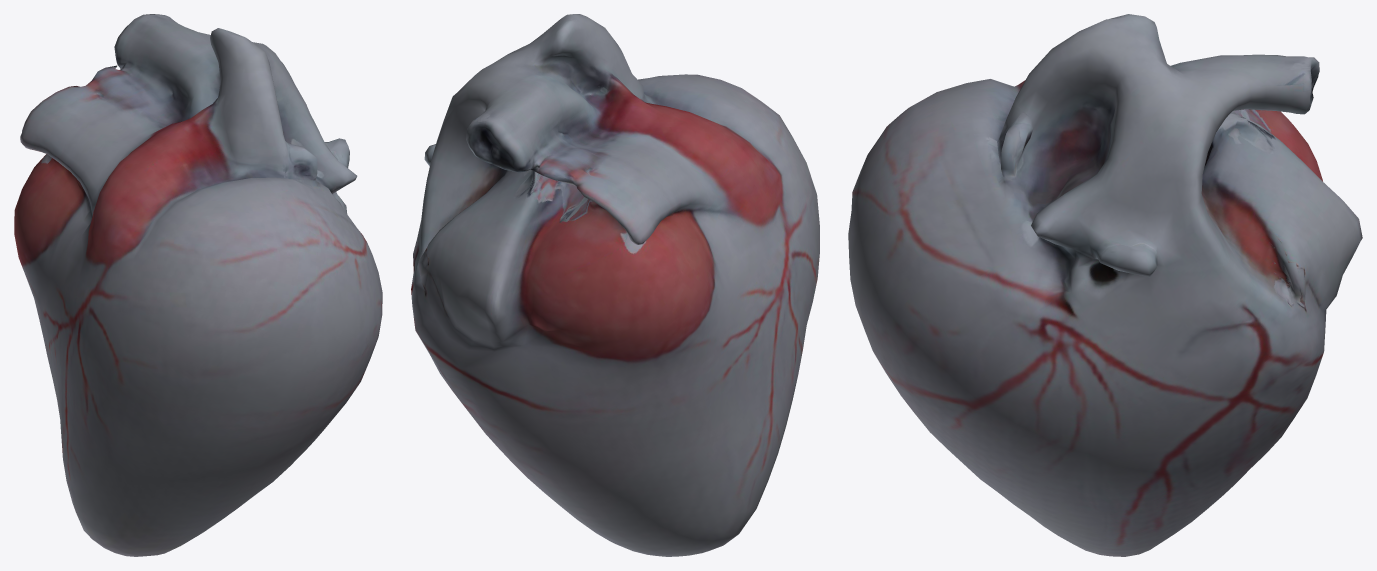
File: 0d58e3db6296_Heart__3d_asset_0_g.fbx
3 views of the same model, side by side, from view 1: azimuth 30°, elevation 25°; view 2: azimuth 150°, elevation 25°; view 3: azimuth 270°, elevation 25° (orthographic). The views are drawn at different scales.
Parts seen in each view (by area): view 1: mesh; view 2: mesh; view 3: mesh.
Boxes of the visible parts, left/top/right/bottom form: mesh: left=14, top=14, right=382, bottom=556; mesh: left=411, top=14, right=819, bottom=556; mesh: left=848, top=14, right=1362, bottom=556.
Size of the model in its own units: 65.3 by 99.76 by 79.9.
